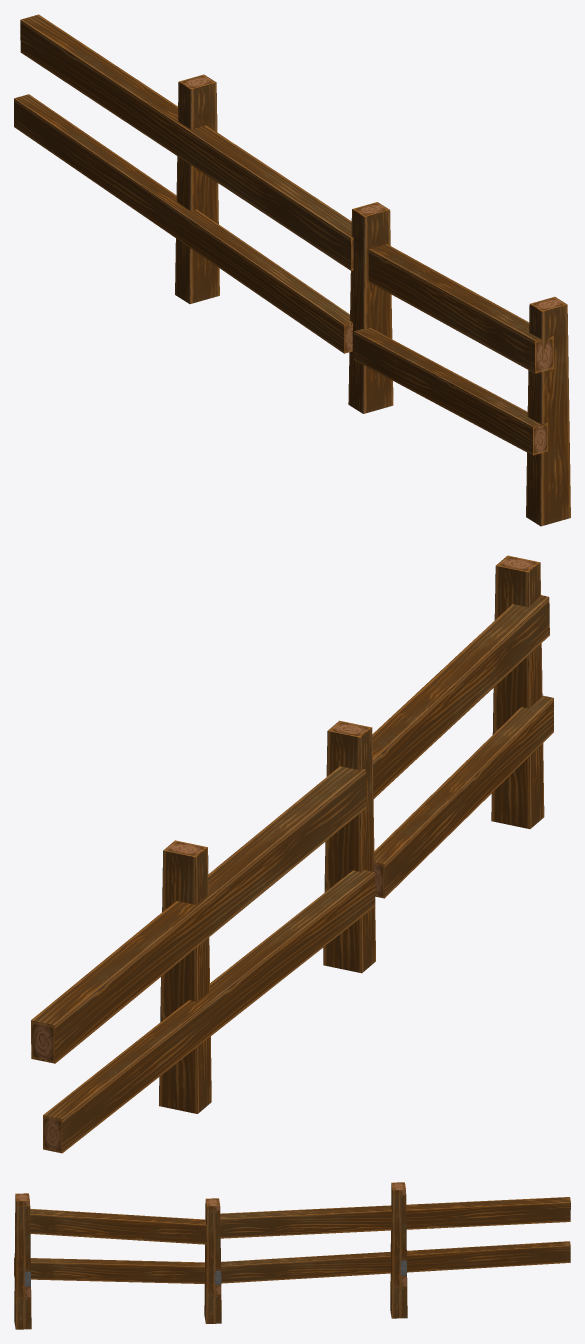
3 renders of one model, top to bottom at view 1: azimuth 30°, elevation 25°; view 2: azimuth 150°, elevation 25°; view 3: azimuth 270°, elevation 25°, orthographic. The views are drawn at different scales.
Visible parts, largest first — view 1: Cube.003; view 2: Cube.003; view 3: Cube.003.
Part boxes in pixels (x1,y1,x2,y2): Cube.003: [14, 14, 570, 526]; Cube.003: [31, 555, 553, 1153]; Cube.003: [14, 1182, 570, 1329].
Bounding box in the file's own units: 60.16 × 132 × 521.
Materials: 1 (1 with a texture image).
